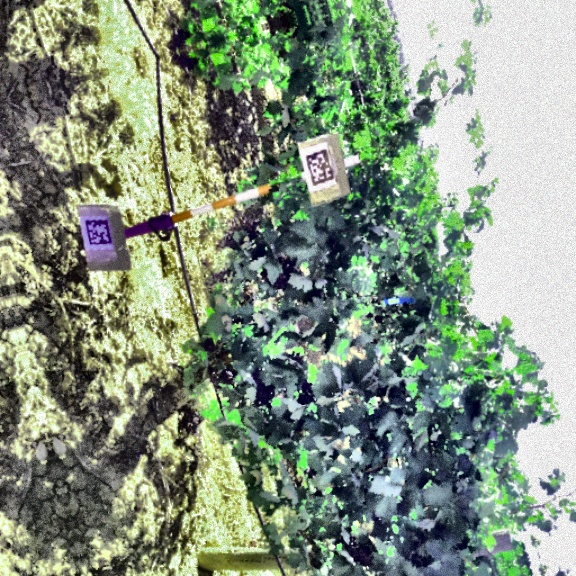QR: (302, 146, 338, 189), (81, 215, 114, 251)
